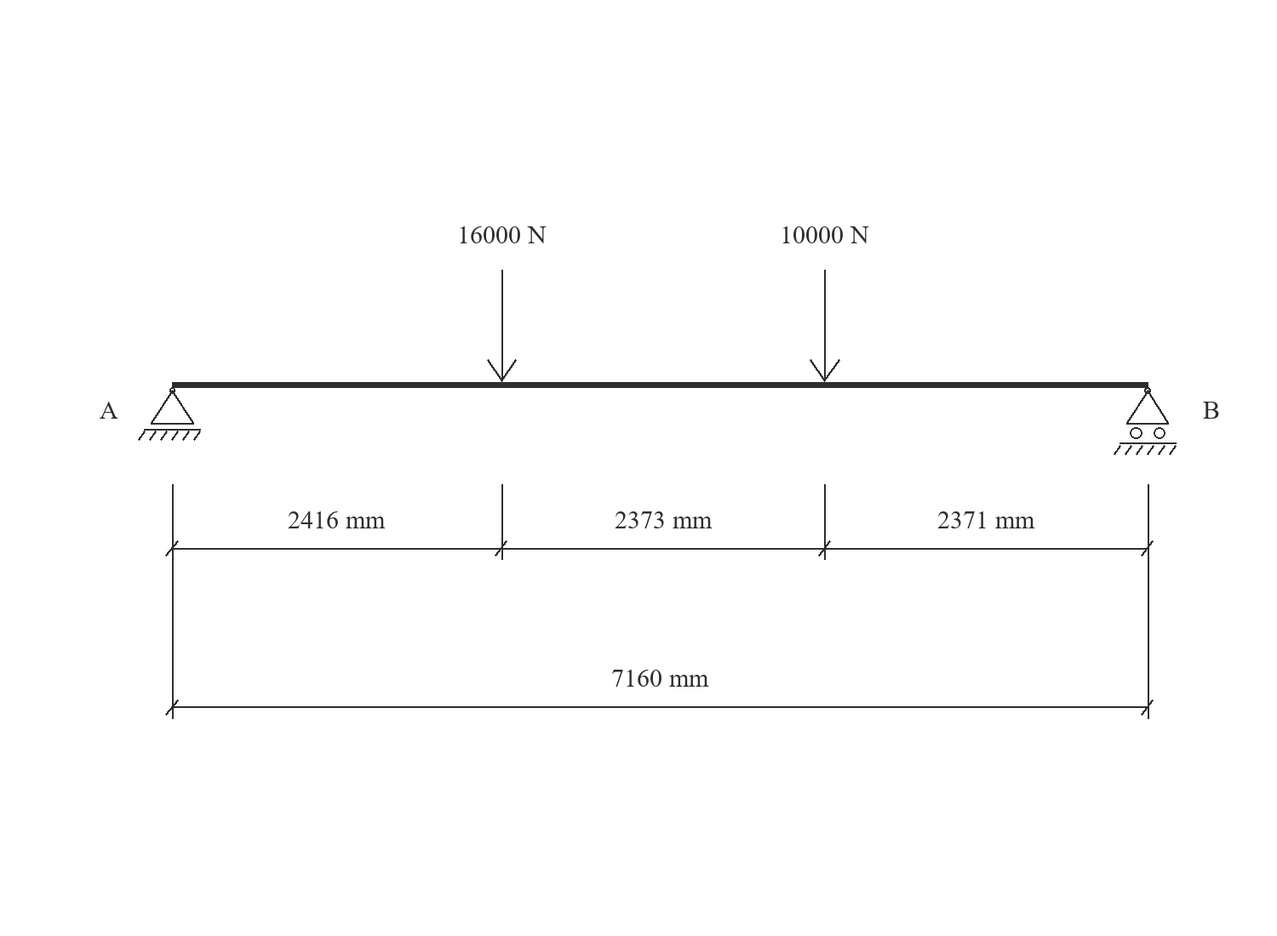pin_support: (138, 387, 201, 441)
point_load: (487, 270, 517, 382), (810, 270, 840, 382)
roller_support: (1114, 387, 1177, 455)
